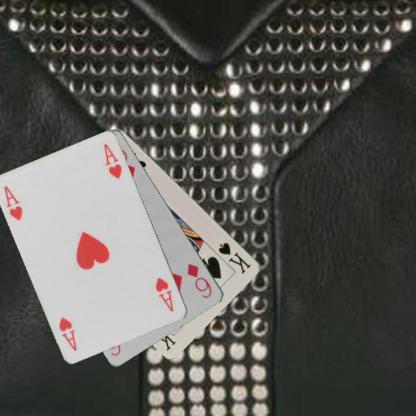6d: (184, 260, 214, 300)
Ah: (2, 182, 24, 222), (153, 275, 175, 313)
Ks: (216, 239, 253, 276)
